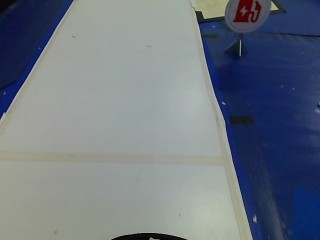battery: (227, 0, 265, 30)
